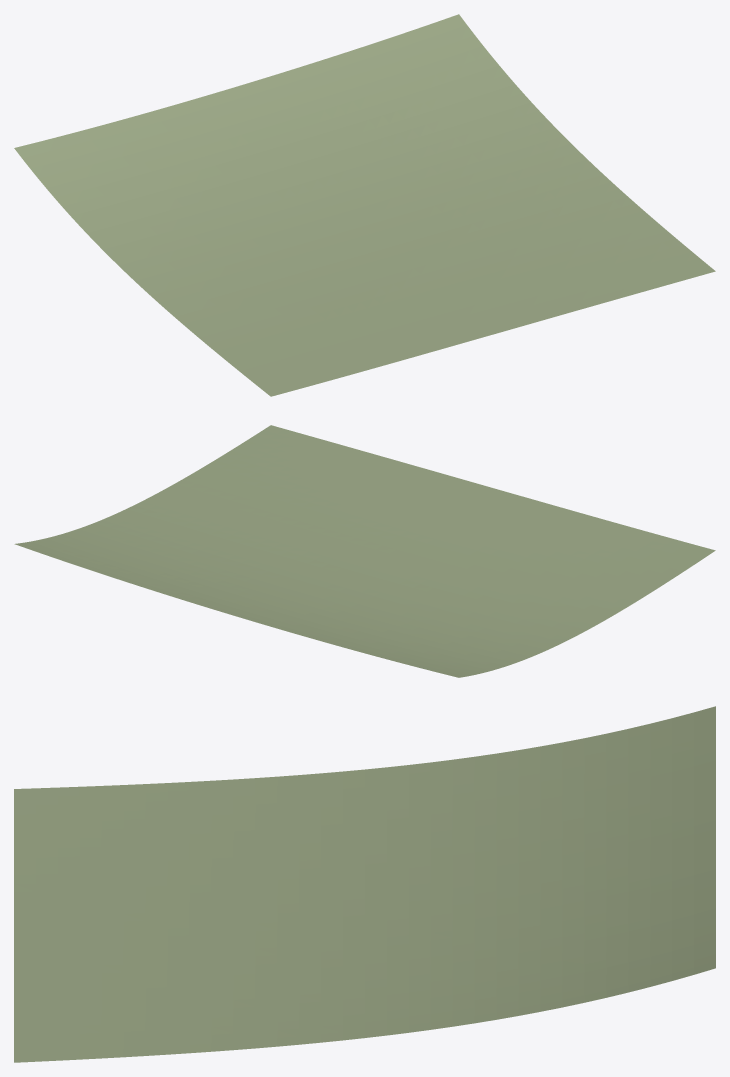
Rendered from expanse-25-23.glb.
3 views of the same model, one above another, from view 1: azimuth 30°, elevation 25°; view 2: azimuth 150°, elevation 25°; view 3: azimuth 270°, elevation 25° (orthographic). The views are drawn at different scales.
Parts seen in each view (by area): view 1: expanse-25-23; view 2: expanse-25-23; view 3: expanse-25-23.
Boxes of the visible parts, left/top/right/bottom form: expanse-25-23: left=14, top=14, right=715, bottom=396; expanse-25-23: left=14, top=425, right=715, bottom=677; expanse-25-23: left=14, top=706, right=715, bottom=1062.
Size of the model in its own units: 256 by 47.25 by 256.
